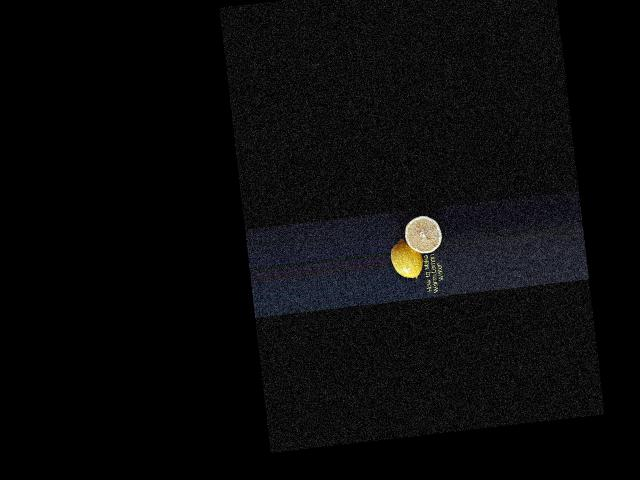lemon: (388, 238, 422, 282)
